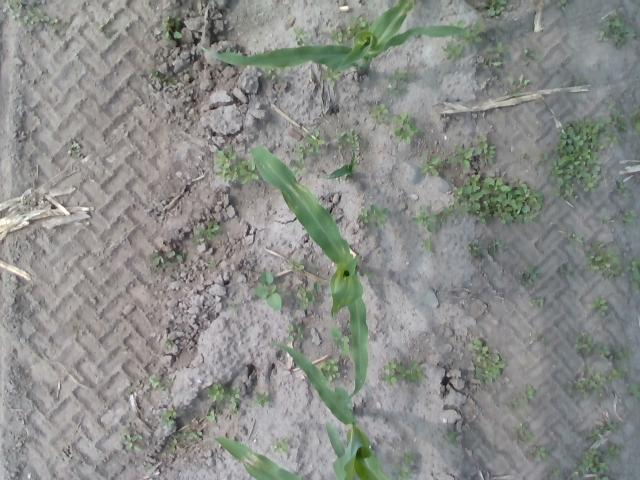Maize: (250, 145, 368, 403), (201, 0, 468, 75), (270, 342, 388, 480), (214, 437, 301, 480), (327, 150, 357, 178)
Weeds: (550, 103, 626, 207), (442, 174, 544, 226), (566, 364, 630, 396), (572, 330, 634, 361), (469, 336, 506, 386), (2, 0, 60, 29), (288, 128, 323, 175), (215, 146, 258, 184), (597, 10, 637, 50), (250, 270, 284, 312), (448, 138, 494, 168), (586, 242, 624, 278), (378, 359, 428, 386), (578, 449, 612, 480), (330, 15, 368, 42), (189, 220, 221, 249), (294, 281, 324, 310), (393, 112, 420, 144), (357, 204, 389, 228), (458, 18, 487, 44), (411, 202, 436, 232), (208, 382, 242, 404), (331, 326, 353, 356), (158, 15, 182, 40), (586, 422, 618, 440), (270, 434, 292, 460), (388, 66, 408, 94), (419, 153, 442, 177), (120, 428, 142, 453), (625, 260, 640, 294), (321, 356, 341, 380), (486, 42, 505, 66), (588, 296, 610, 316), (284, 324, 306, 344), (508, 74, 532, 92), (151, 67, 178, 83), (441, 41, 462, 61), (252, 389, 272, 410), (511, 421, 533, 440), (159, 408, 178, 428), (370, 103, 388, 124), (150, 252, 175, 267), (338, 131, 360, 148), (522, 265, 540, 285), (488, 0, 508, 17), (284, 256, 306, 271), (564, 232, 587, 246), (68, 139, 84, 159), (522, 382, 536, 404), (322, 70, 340, 86), (162, 437, 178, 455), (468, 242, 486, 258), (97, 22, 116, 37), (176, 430, 204, 440), (608, 444, 623, 462), (532, 446, 548, 462), (294, 26, 308, 44), (446, 428, 459, 447), (392, 467, 410, 480), (627, 382, 640, 400), (522, 48, 538, 62), (624, 210, 638, 226), (148, 376, 164, 390), (398, 452, 414, 466), (630, 109, 640, 131), (262, 67, 276, 81), (358, 266, 374, 278), (600, 215, 617, 226), (227, 402, 240, 416), (207, 410, 222, 422), (492, 236, 505, 248), (532, 296, 544, 308), (508, 396, 520, 408), (422, 236, 432, 250), (538, 154, 548, 166), (208, 256, 218, 268), (164, 338, 173, 350), (558, 0, 569, 9), (177, 254, 187, 263), (552, 468, 562, 477), (520, 152, 526, 161), (540, 335, 546, 340)
